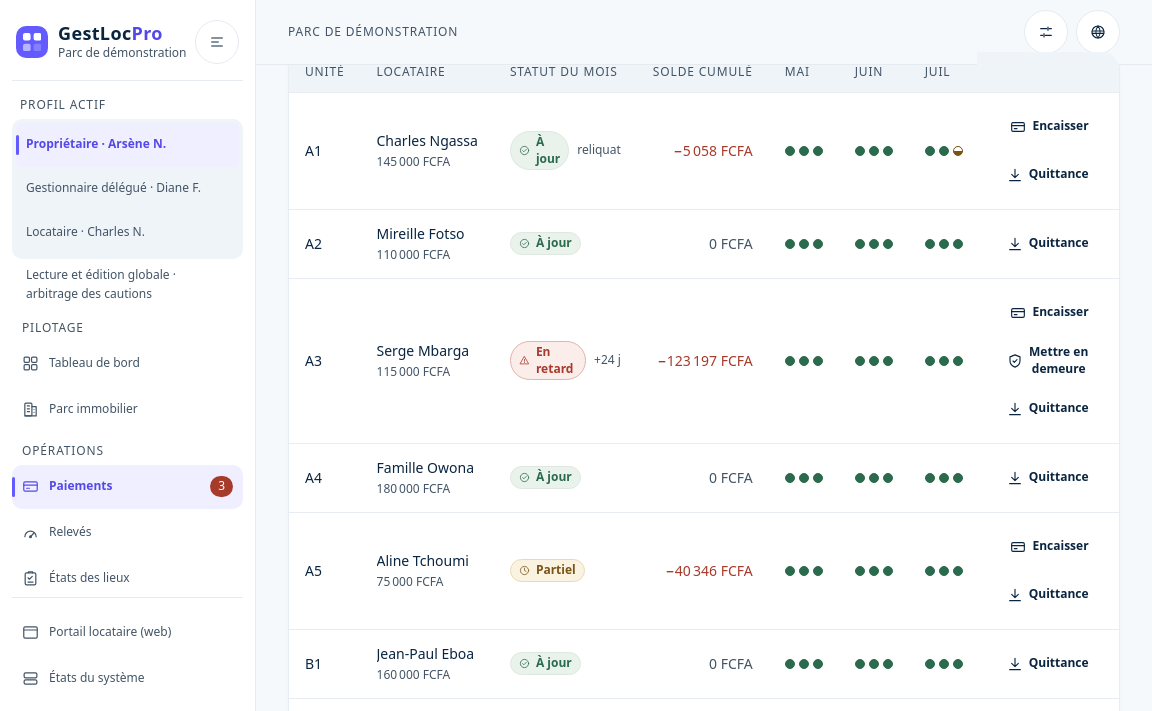
Scenario: la mise en demeure en démonstration › s’offre sur un retard, et s’ouvre
(page scrolled)
Expected: the row that starts with "Serge Mbarga" is shown, [289,278,1120,443]
Click the button "Mettre en demeure".
click(1048, 361)  # box [993,339,1103,383]
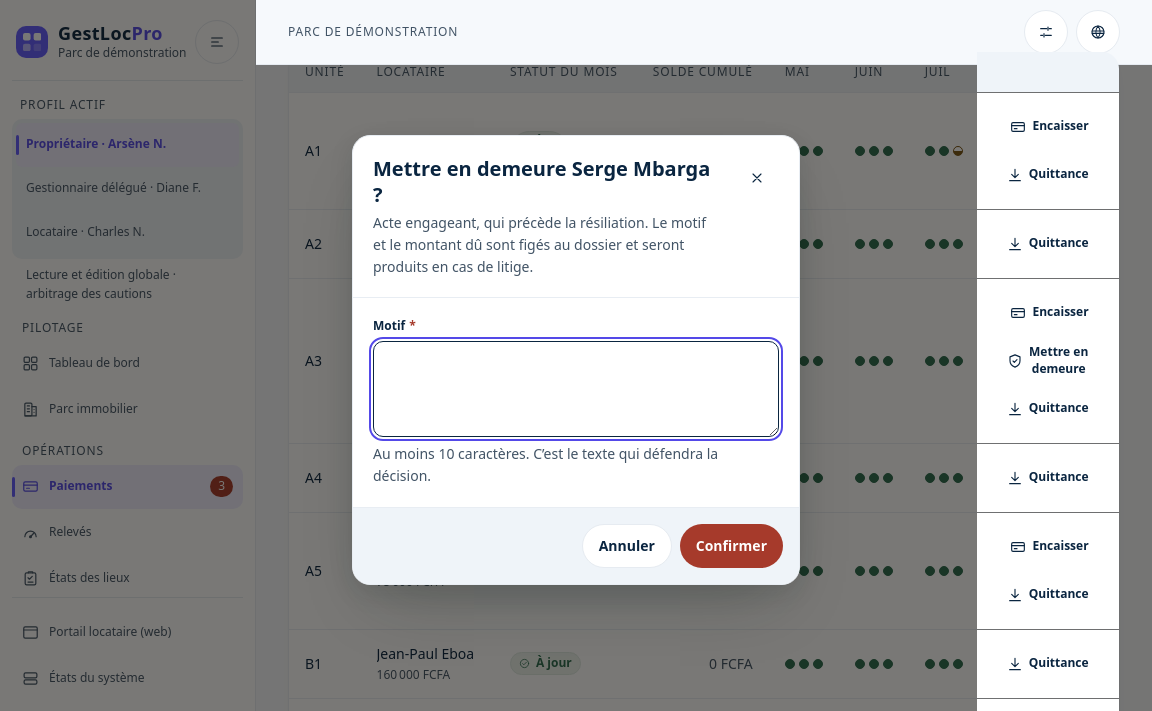
Now the dialog shows "Mettre en demeure", box [373,155,710,208]
